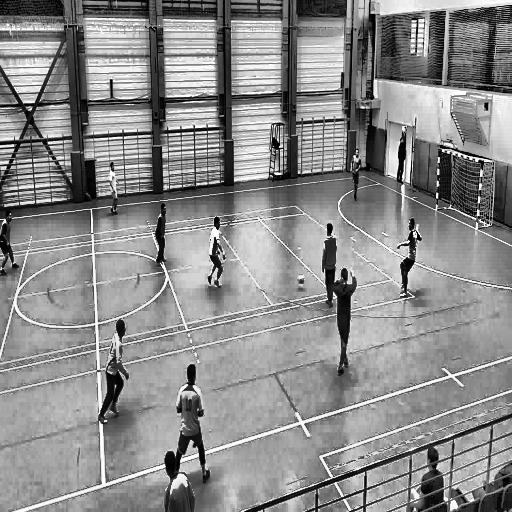ball: (297, 273, 306, 288)
player: (174, 364, 212, 482), (98, 316, 129, 426), (332, 267, 358, 376), (397, 217, 421, 300), (0, 204, 20, 277), (321, 222, 337, 306), (207, 215, 225, 289), (154, 202, 169, 268), (350, 148, 362, 202), (108, 160, 118, 217), (397, 135, 406, 187)
